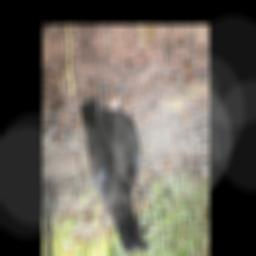Crow: (77, 72, 152, 256)
